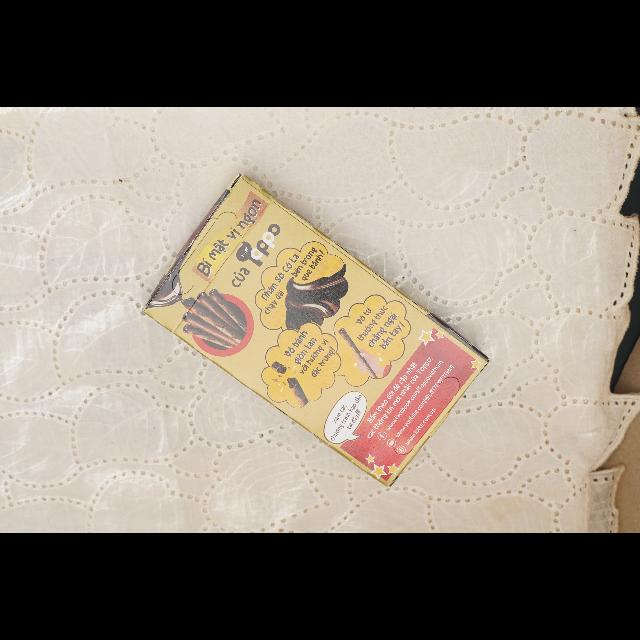banh_toppo_socola: (144, 174, 487, 486)
